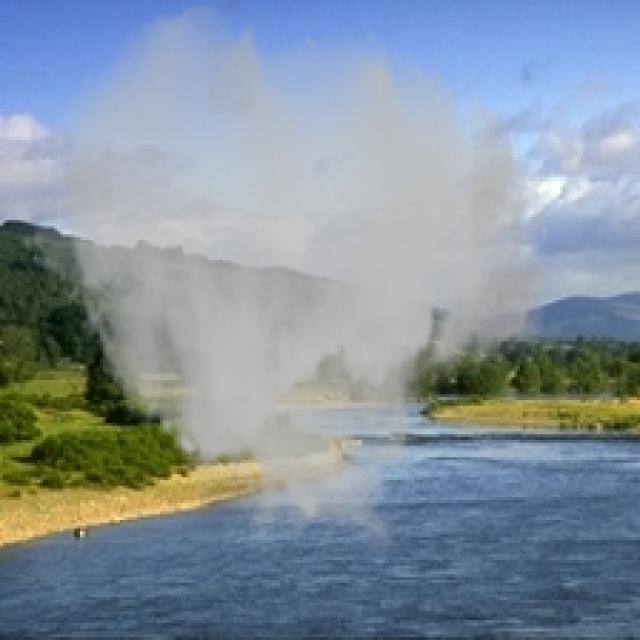Smoke: (19, 0, 554, 560)
